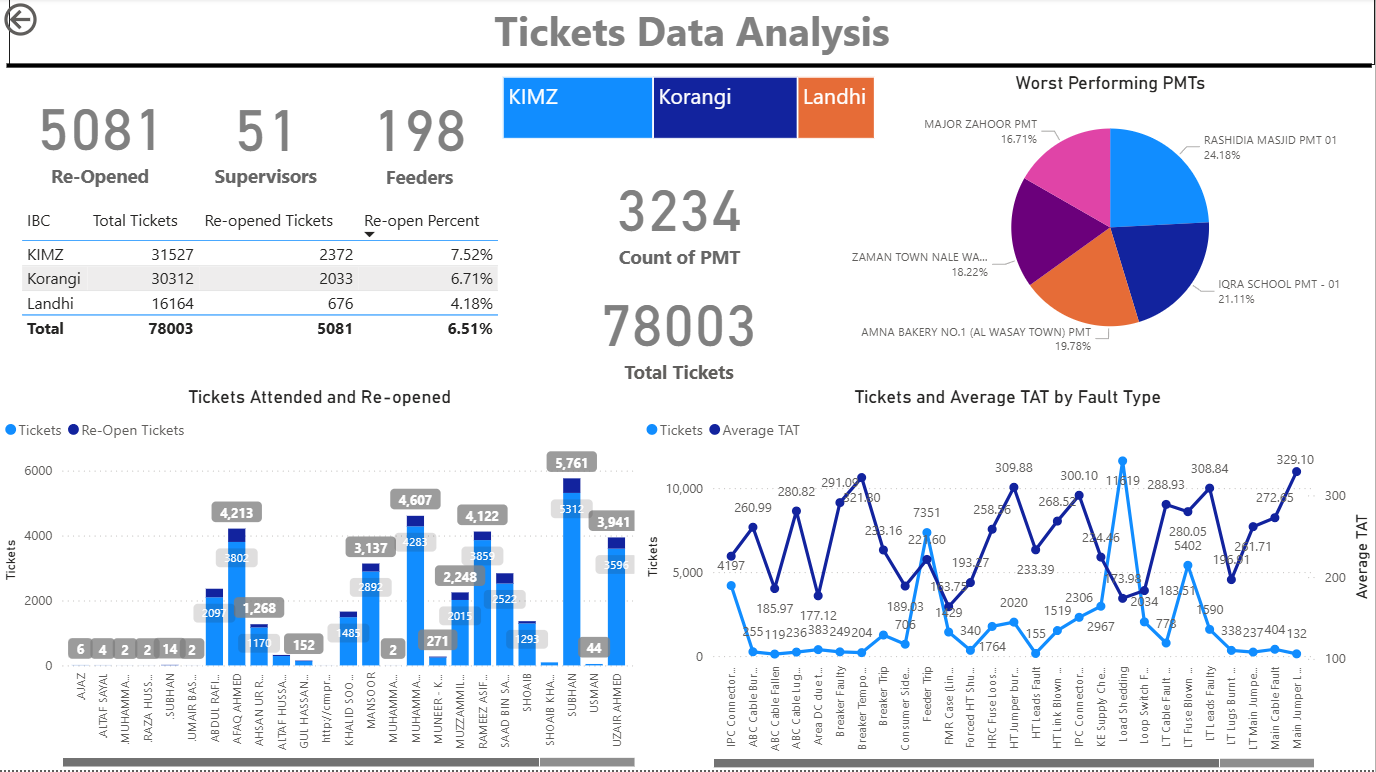

The page's visual inventory and layout, read from the dashboard file:
{"tool":"powerbi","page":{"name":"Page 1","canvas":[1280,720],"ordinal":0},"visuals":[{"type":"textbox","box":[9.6,0,1270.7,63.1],"z":0},{"type":"shape","box":[6.7,56.7,1270,11.7],"z":1000},{"type":"card","fields":{"Values":["CountNonNull(Sheet1.Ticket No.)"]},"box":[533.7,258.1,197.7,107],"z":2000},{"type":"tableEx","fields":{"Values":["Sheet1.IBC","CountNonNull(Sheet1.Ticket No.)","Sum(Sheet1.ReOpenCount)","Sheet1.Re-open Percent"]},"box":[15.1,189.5,464,136],"z":3000},{"type":"columnChart","title":"Tickets Attended and Re-opened","fields":{"Category":["Sheet1.Supervisor"],"Y":["CountNonNull(Sheet1.Ticket No.)","Sum(Sheet1.ReOpenCount)"]},"box":[0,360.5,596.5,359.3],"z":4000},{"type":"lineChart","fields":{"Category":["Sheet1.Reason"],"Y":["CountNonNull(Sheet1.Ticket No.)"],"Y2":["Avg(Sheet1.TAT)"]},"box":[596.5,360.2,683.8,360.2],"z":5000},{"type":"pieChart","title":"Worst Performing PMTs","fields":{"Y":["CountNonNull(Sheet1.Ticket No.)"],"Category":["Sheet1.PMT Name"],"Series":["Sheet1.PMT Name"]},"box":[787,68.3,493.3,269.2],"z":6000},{"type":"card","fields":{"Values":["Sum(Sheet1.ReOpenCount)"]},"box":[15.1,75.6,158.1,107],"z":7000},{"type":"actionButton","box":[0,0,100,40],"z":8000},{"type":"treemap","fields":{"Group":["Sheet1.IBC"],"Values":["CountNonNull(Sheet1.Ticket No.)"]},"box":[464,68.6,355.8,67.4],"z":9000},{"type":"card","fields":{"Values":["Count(Sheet1.Feeder Name)"]},"box":[318.6,76.7,145.3,107],"z":10000},{"type":"card","fields":{"Values":["Count(Sheet1.PMT)"]},"box":[547.7,151.2,170.9,107],"z":11000},{"type":"card","fields":{"Values":["Count(Sheet1.Supervisor)"]},"box":[181.4,75.6,133.7,108.1],"z":12000}]}

Visuals, with their boxes in screenshot pixels (x1, y1, x2, y2), scaled from the page's 1280x720 canvas onto the 1376x772 screenshot:
textbox: [left=10, top=0, right=1375, bottom=68]
shape: [left=7, top=61, right=1372, bottom=73]
card - CountNonNull(Sheet1.Ticket No.): [left=574, top=277, right=786, bottom=391]
tableEx - Sheet1.IBC x CountNonNull(Sheet1.Ticket No.): [left=16, top=203, right=515, bottom=349]
"Tickets Attended and Re-opened" columnChart: [left=0, top=387, right=641, bottom=771]
lineChart - Sheet1.Reason x CountNonNull(Sheet1.Ticket No.): [left=641, top=386, right=1375, bottom=771]
"Worst Performing PMTs" pieChart: [left=846, top=73, right=1375, bottom=362]
card - Sum(Sheet1.ReOpenCount): [left=16, top=81, right=186, bottom=196]
actionButton: [left=0, top=0, right=108, bottom=43]
treemap - Sheet1.IBC x CountNonNull(Sheet1.Ticket No.): [left=499, top=74, right=881, bottom=146]
card - Count(Sheet1.Feeder Name): [left=342, top=82, right=499, bottom=197]
card - Count(Sheet1.PMT): [left=589, top=162, right=772, bottom=277]
card - Count(Sheet1.Supervisor): [left=195, top=81, right=339, bottom=197]
